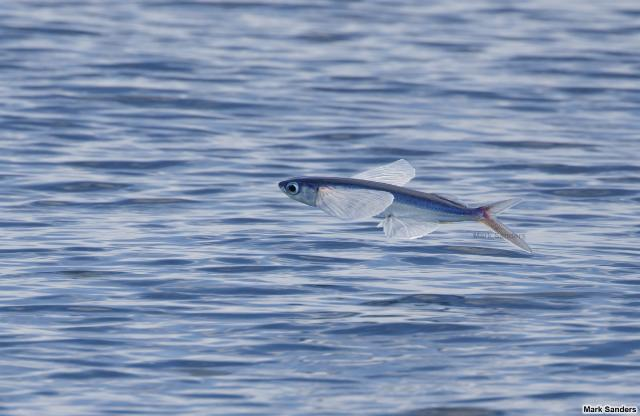Mulut: (267, 168, 295, 206)
Sirip Dada: (308, 152, 424, 228)
Sirip Ekor: (473, 184, 539, 266)
Sirip Perut: (372, 208, 416, 248)
